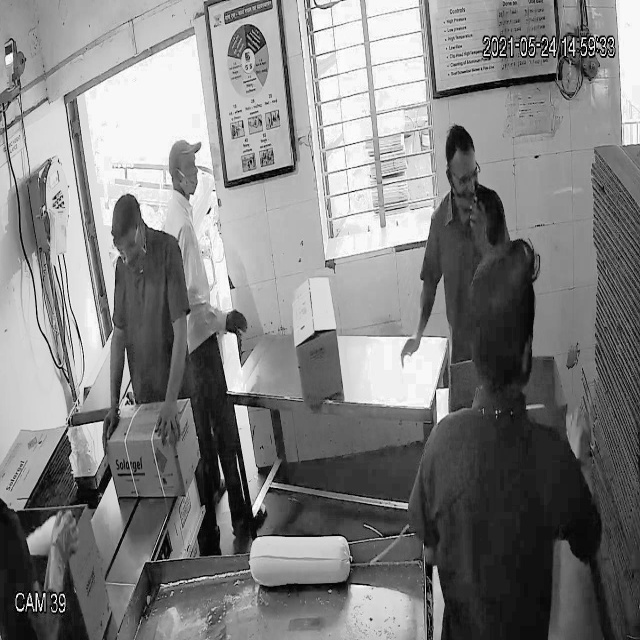Gafas: (444, 161, 484, 188), (111, 231, 143, 260)
